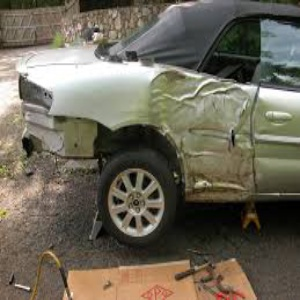door: (188, 90, 270, 202)
